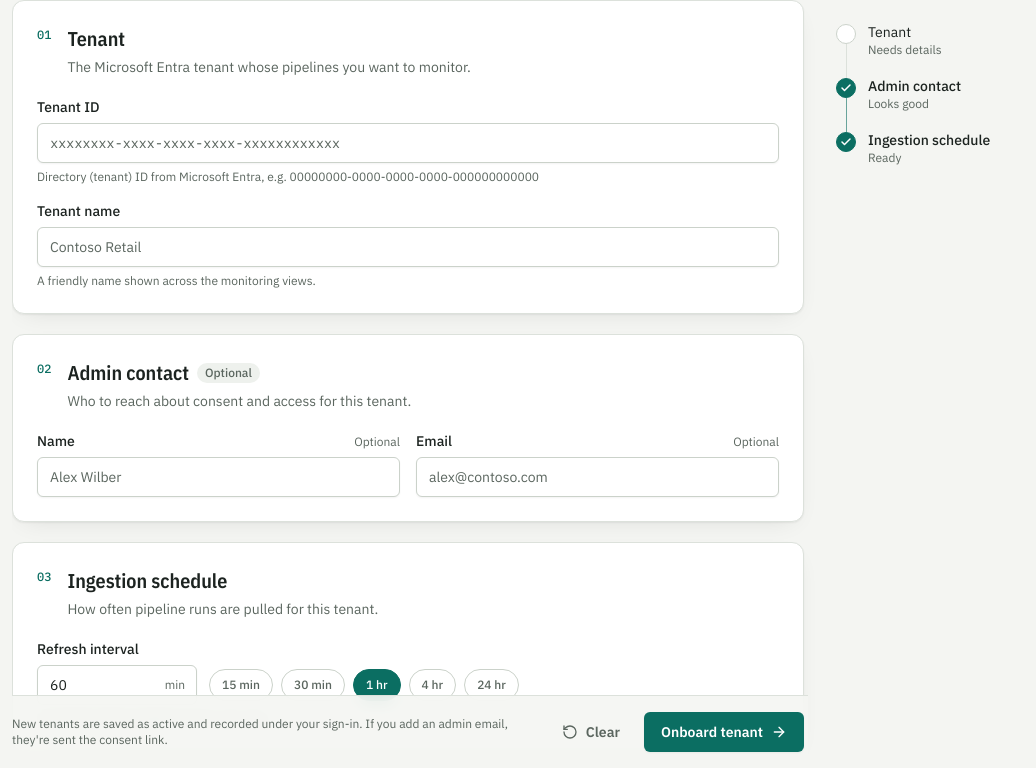
Test: TenantOnboarding › keeps the entries and flags the field when the tenant already exists
This screenshot has width=1036, height=768.
In the field labelled "Tenant ID": (408, 143) [37, 123, 779, 163], type "11111111-2222-3333-4444-555555555555"
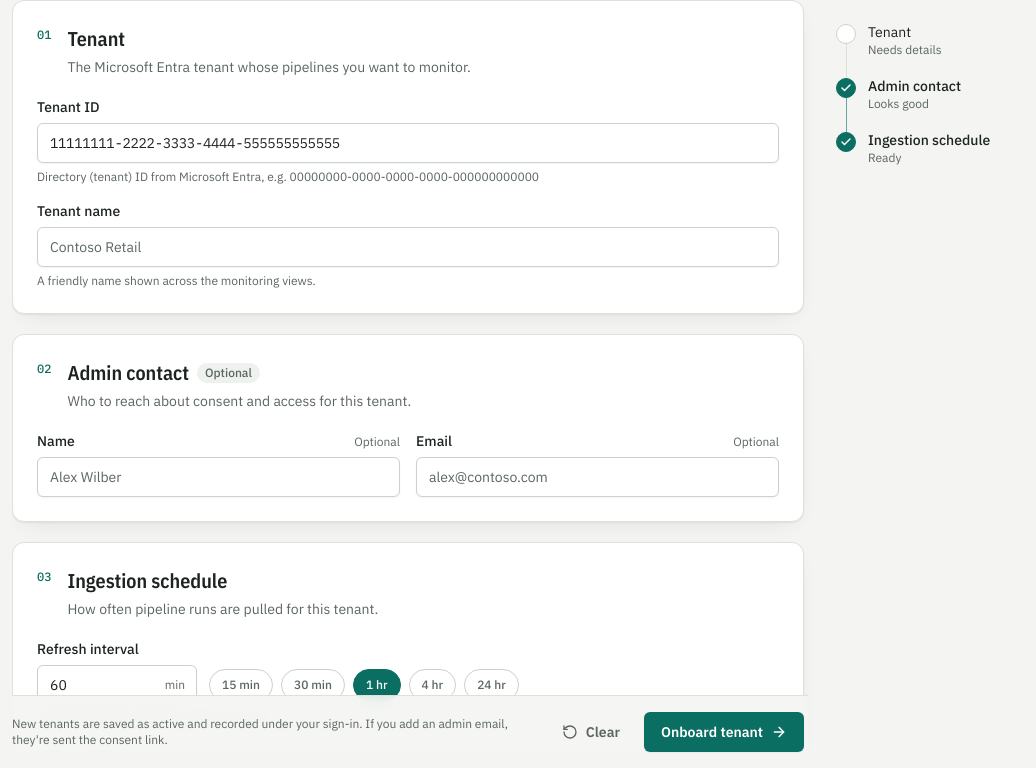
In the field labelled "Tenant name": (408, 247) [37, 227, 779, 267], type "Contoso"
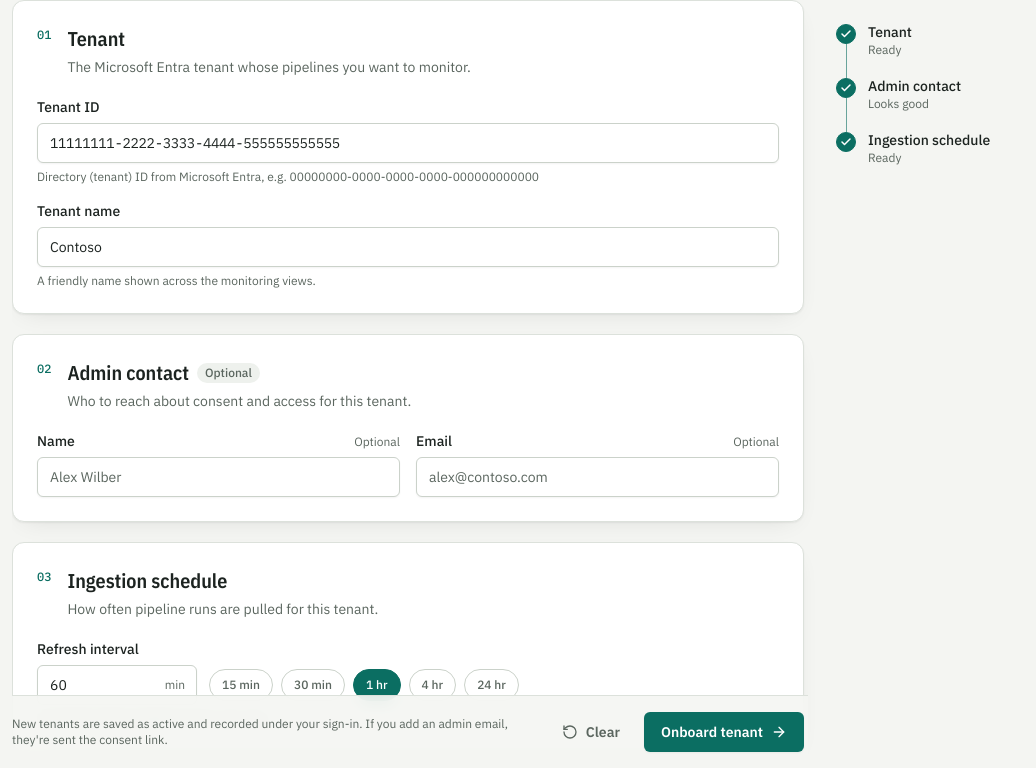
Click the button "Onboard tenant": click(724, 732) [644, 712, 804, 752]
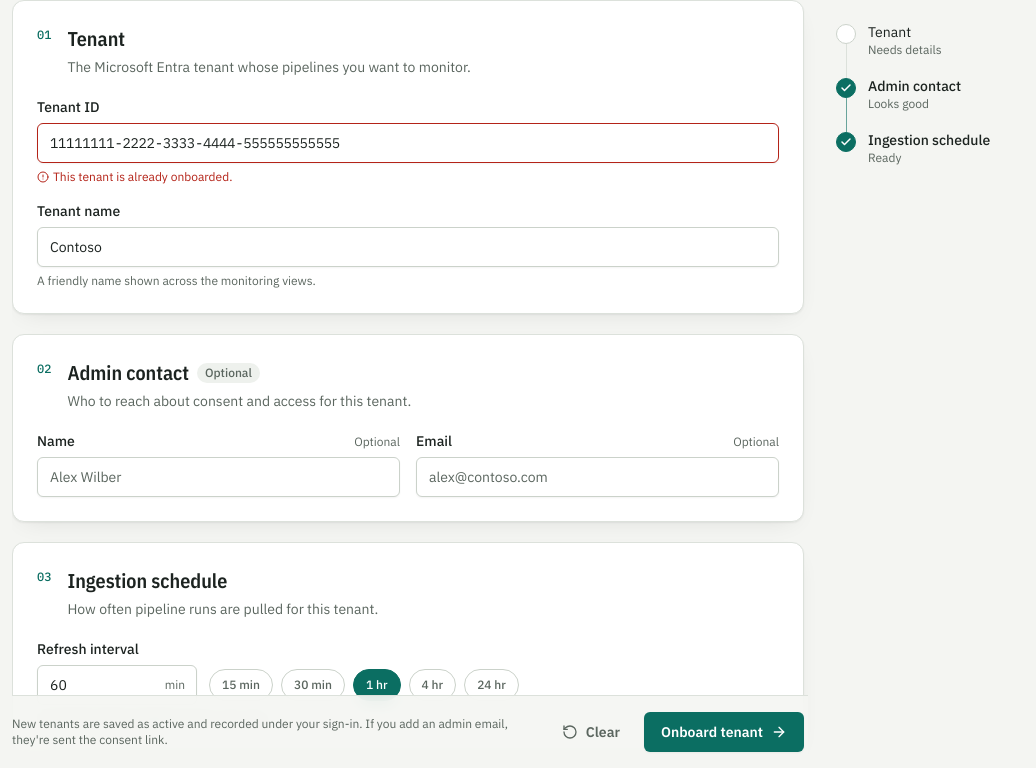
expect the text "This tenant is already onboarded." is shown: met, box [37, 169, 232, 184]
